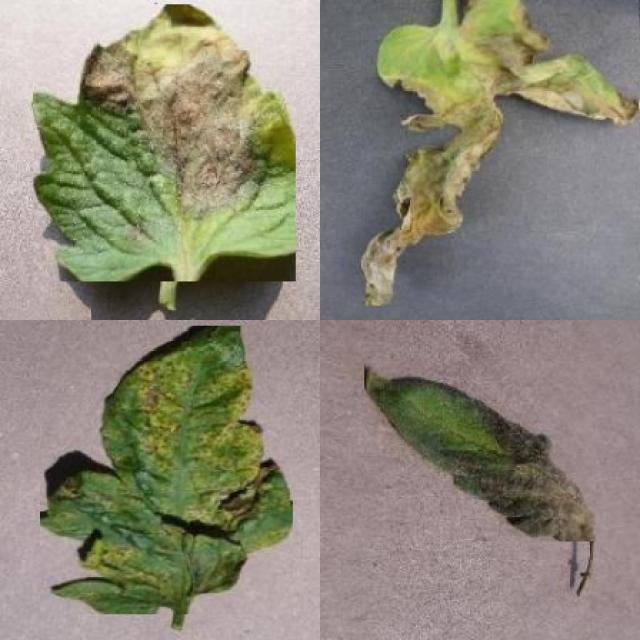Late Blight: (360, 0, 639, 306), (33, 5, 296, 282), (364, 358, 596, 542)
Septoria: (40, 326, 293, 614)
